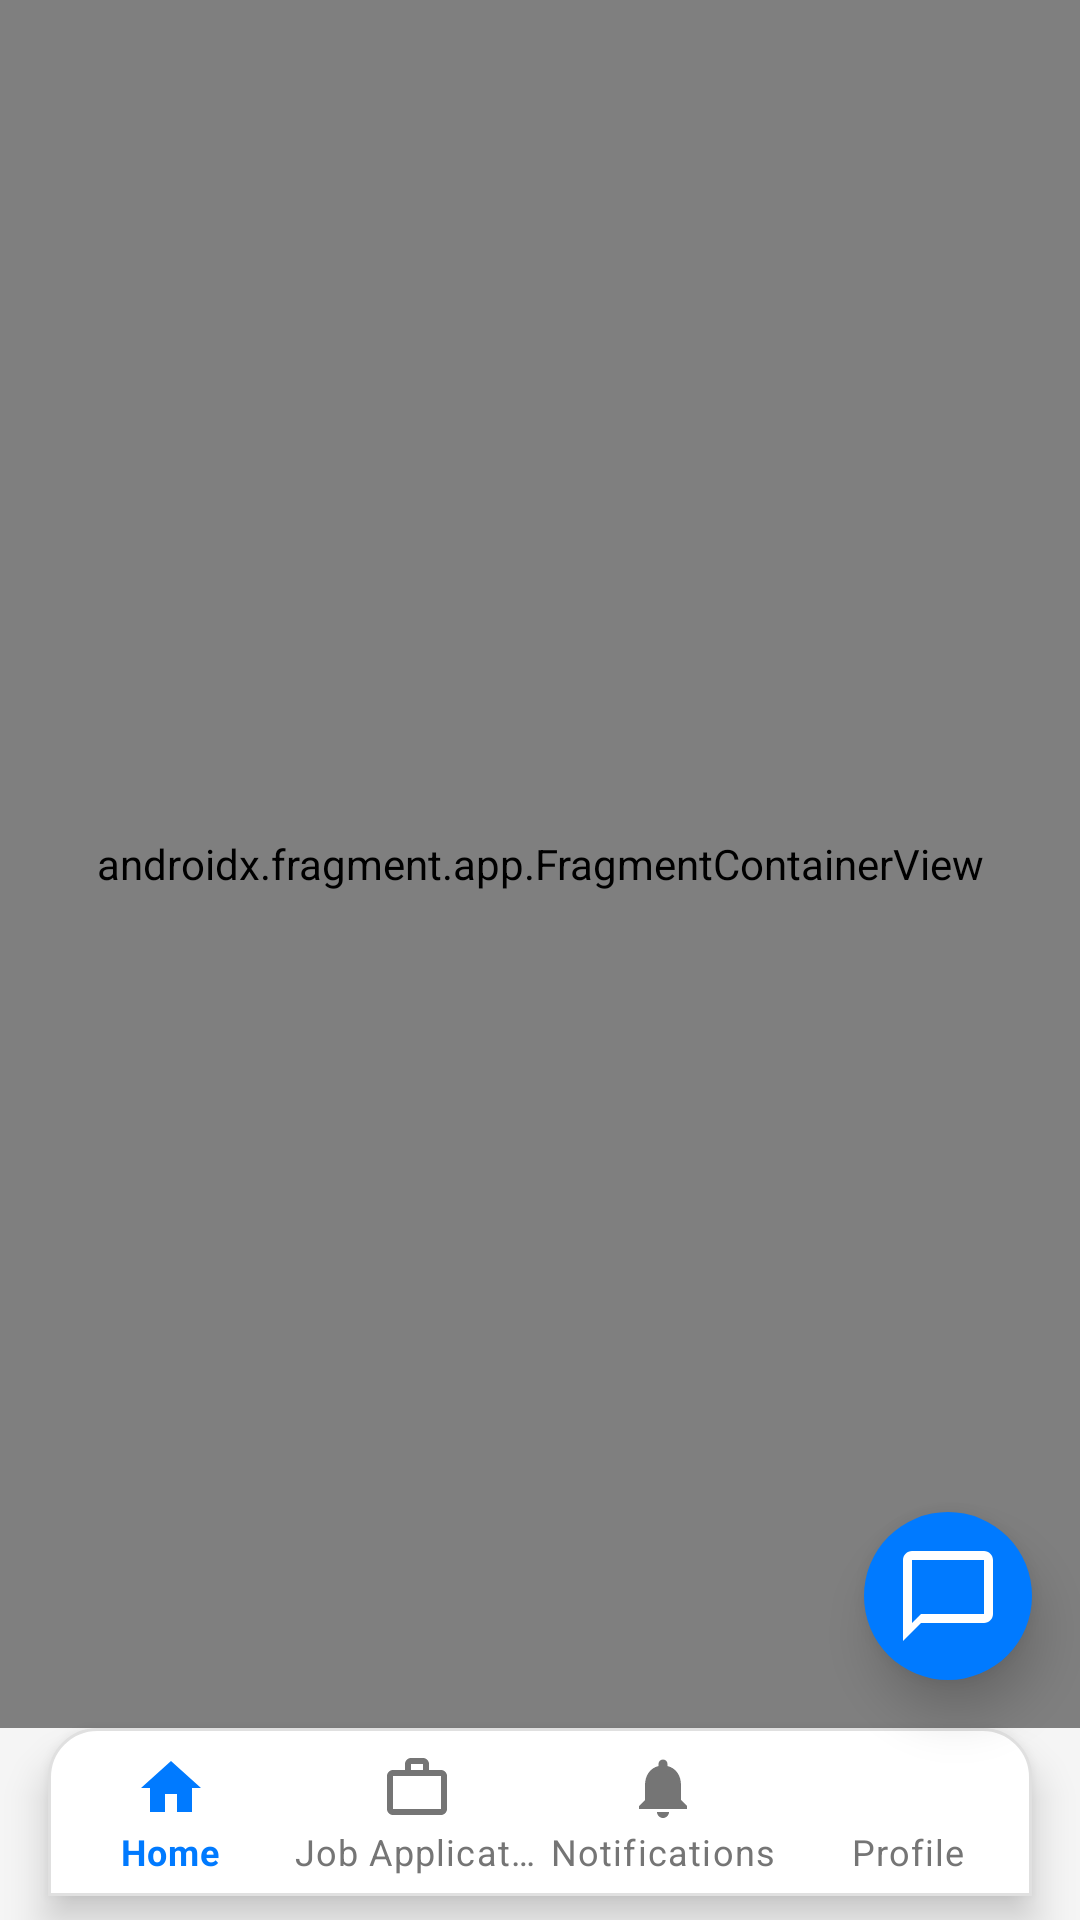

Point at icon controls on the screen. Image size 1080x1920, points as point (x, y).
Chat Head: point (948, 1596)
